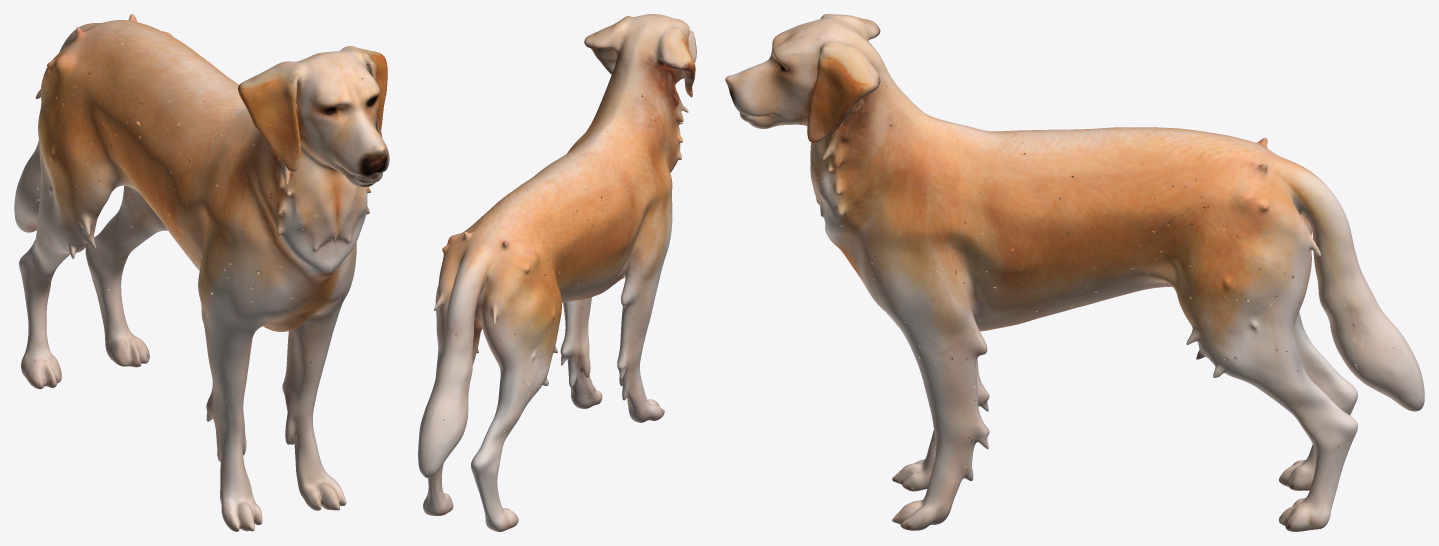
The picture shows the model from 3 angles, left to right: view 1: azimuth 30°, elevation 25°; view 2: azimuth 150°, elevation 25°; view 3: azimuth 270°, elevation 25°; orthographic projection. The views are drawn at different scales.
Size of the model in its own units: 0.4757 by 1.52 by 2.01.
1 material, 1 textured.
